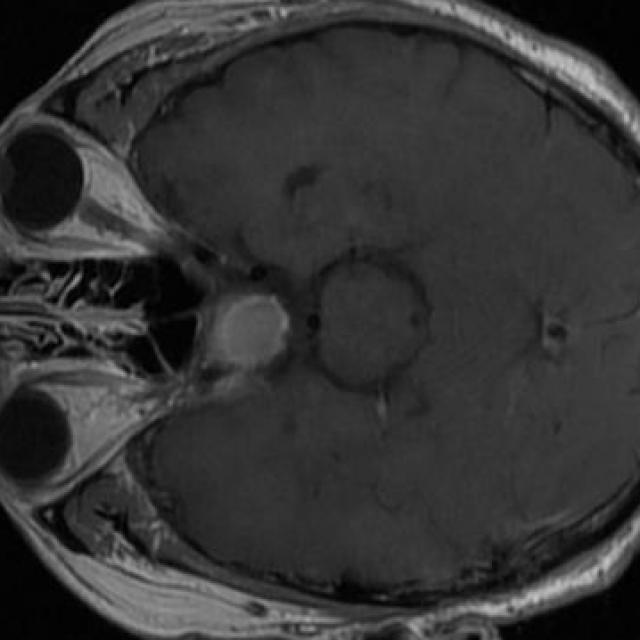pituitary: (201, 292, 289, 365)
